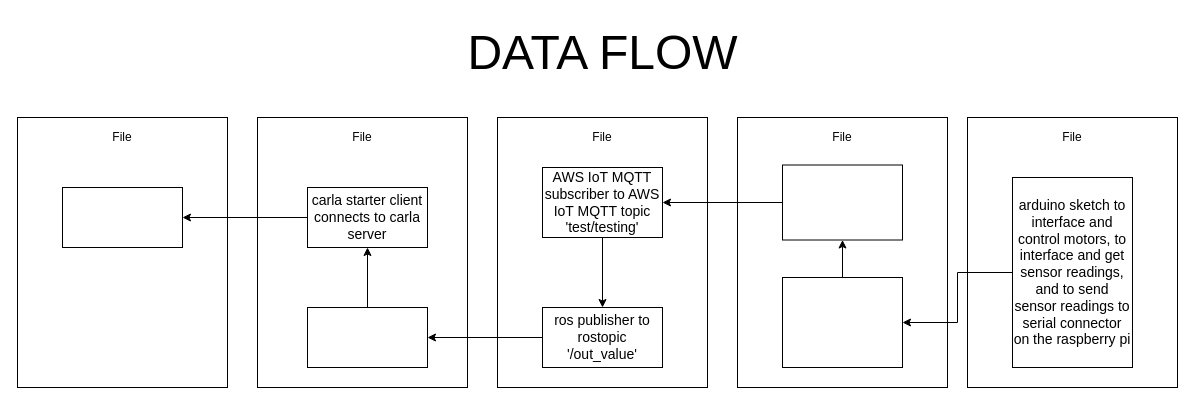
Some shapes in this 1195 by 405 pixel diagram are drawn without their labels. Here are the shapes that lost their labels. From the top down, the centre of each, then its label:
At (122,217): "Docker file to run carla server".
At (842,202): "AWS IoT MQTT publisher to AWS IoT MQTT topic 'test/testing'".
At (367,337): "ros subscriber to rostopic '/out_value'".
At (842,322): "raspberry pi - arduino serial connector to retrieve sensor readings".
